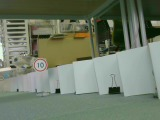speed_10: (32, 57, 47, 72)
